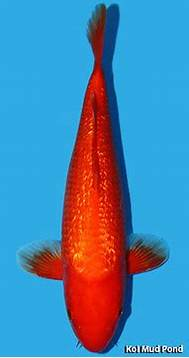red: (15, 3, 168, 352)
